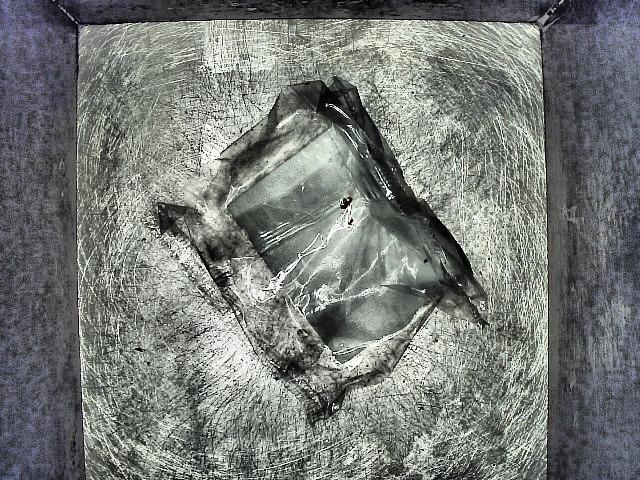Plastic: (150, 66, 484, 411)
